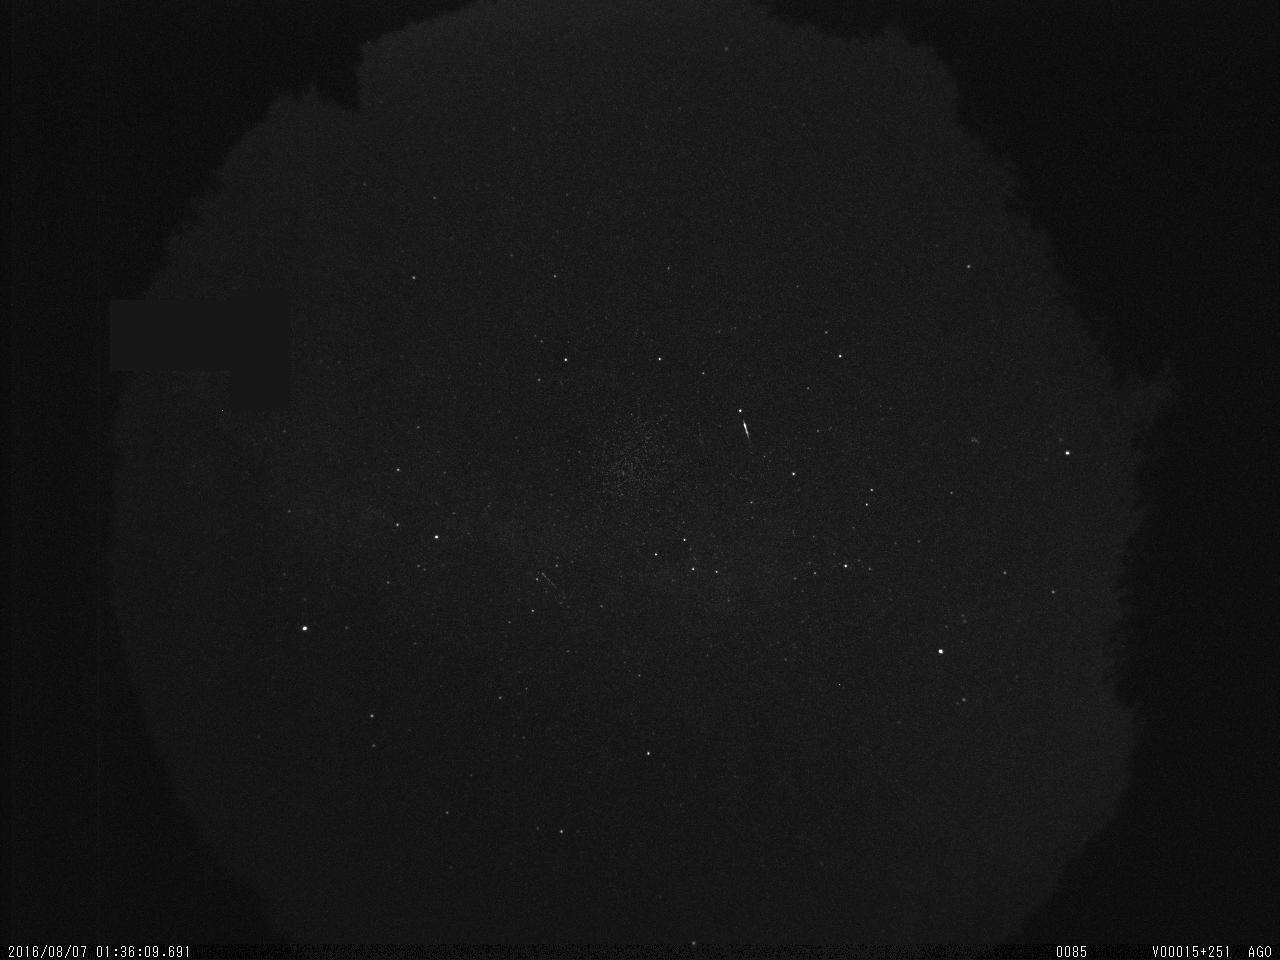meteor: (711, 399, 785, 449)
